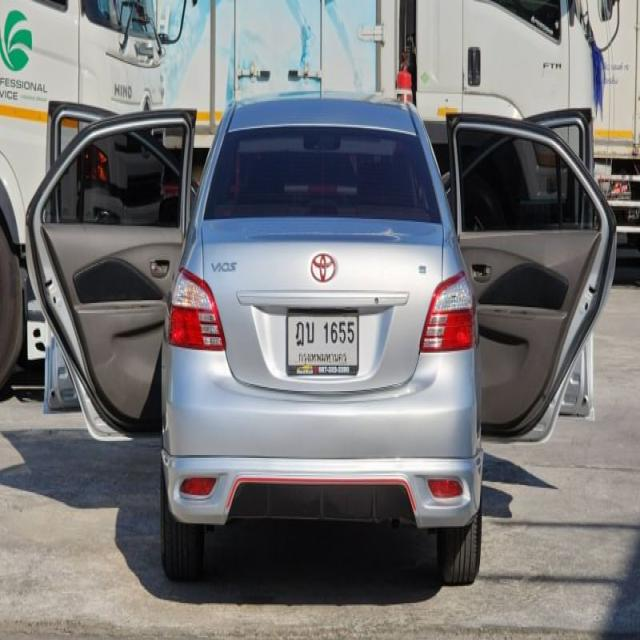license_plate: (279, 301, 368, 384)
